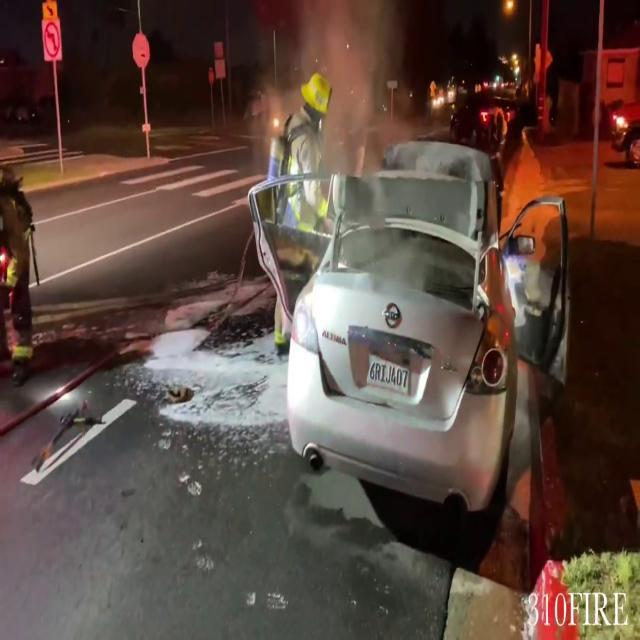Smoke: (245, 0, 403, 212)
